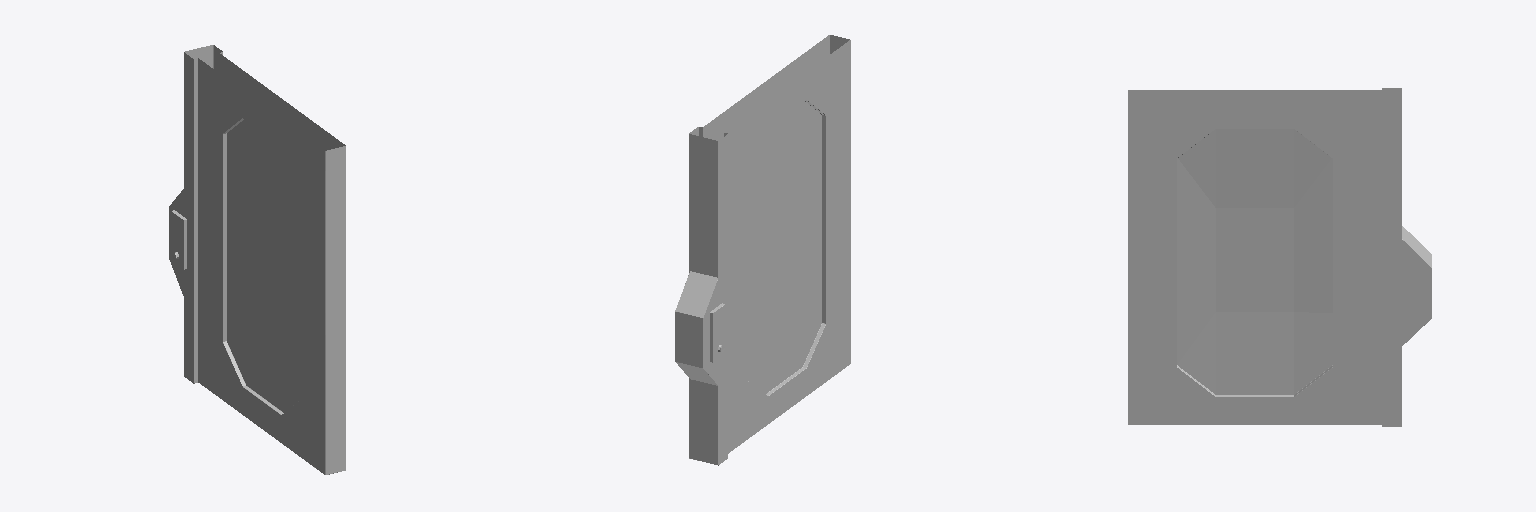
Rendered from rightDoor.obj.
3 renders of one model, left to right at view 1: azimuth 30°, elevation 25°; view 2: azimuth 150°, elevation 25°; view 3: azimuth 270°, elevation 25°, orthographic.
Visible parts, largest first — view 1: group4 group1 pCube62, group4 group1 pCube12; view 2: group4 group1 pCube62, pCube9 group4 group1, group4 group1 pCube12; view 3: group4 group1 pCube62, pCube9 group4 group1.
Boxes of the visible parts, x1,y1,x2,y2 form: group4 group1 pCube62: [184, 45, 345, 474]; group4 group1 pCube12: [171, 210, 186, 269]; group4 group1 pCube62: [689, 35, 850, 465]; pCube9 group4 group1: [675, 271, 718, 385]; group4 group1 pCube12: [710, 303, 725, 362]; group4 group1 pCube62: [1128, 88, 1401, 426]; pCube9 group4 group1: [1402, 226, 1431, 345].
Size of the model in its own units: 0.3379 by 2.85 by 2.42.